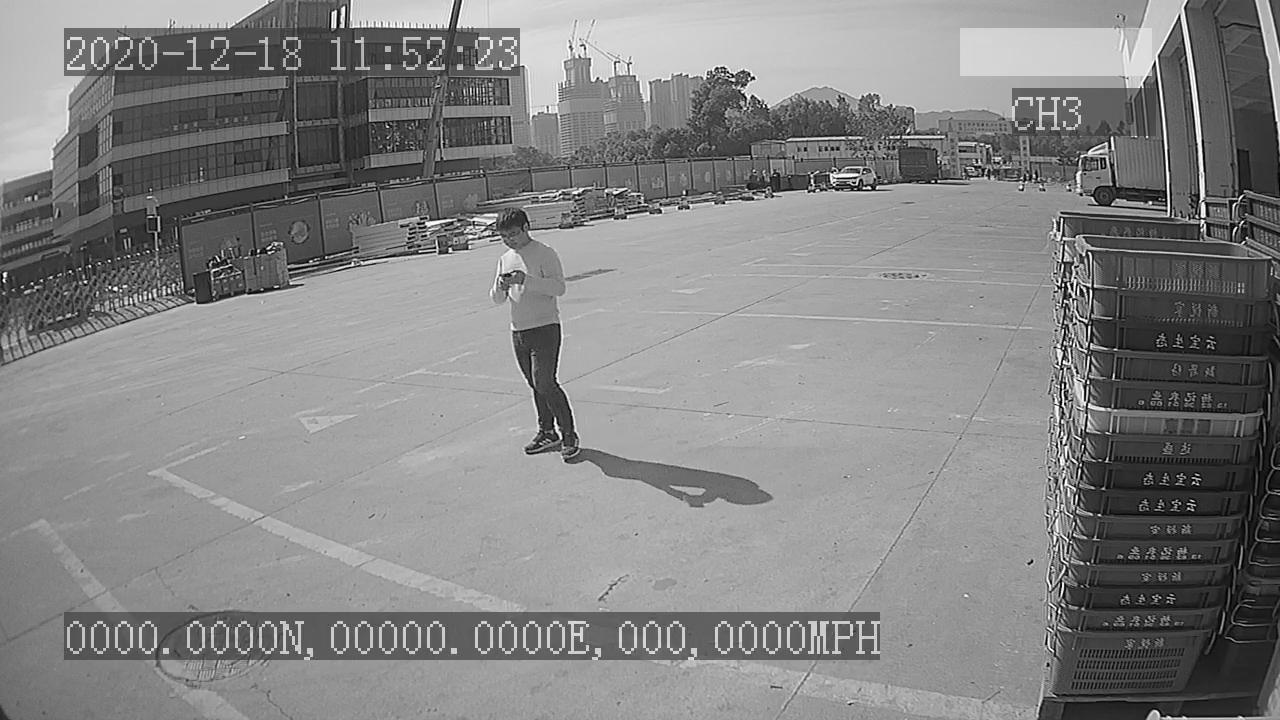person: (484, 204, 588, 467)
